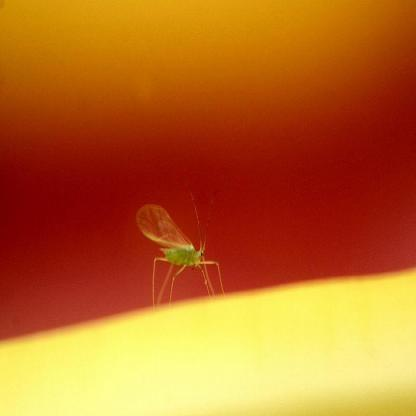aphid: (133, 189, 232, 309)
